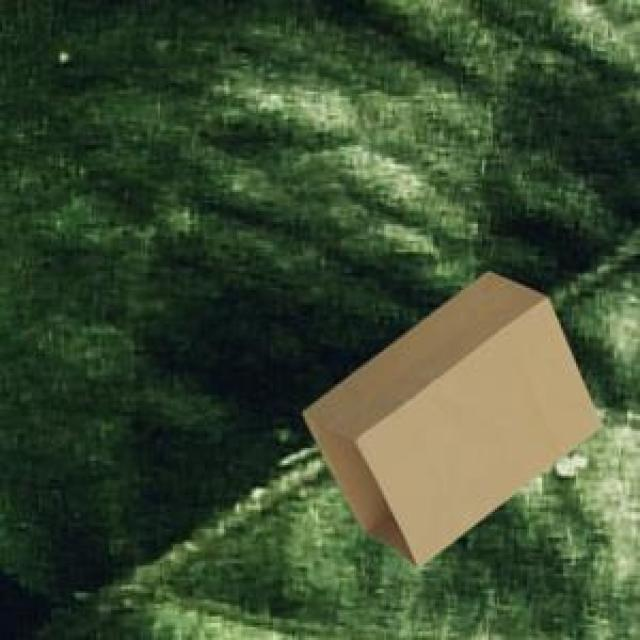paper: (299, 269, 597, 563)
